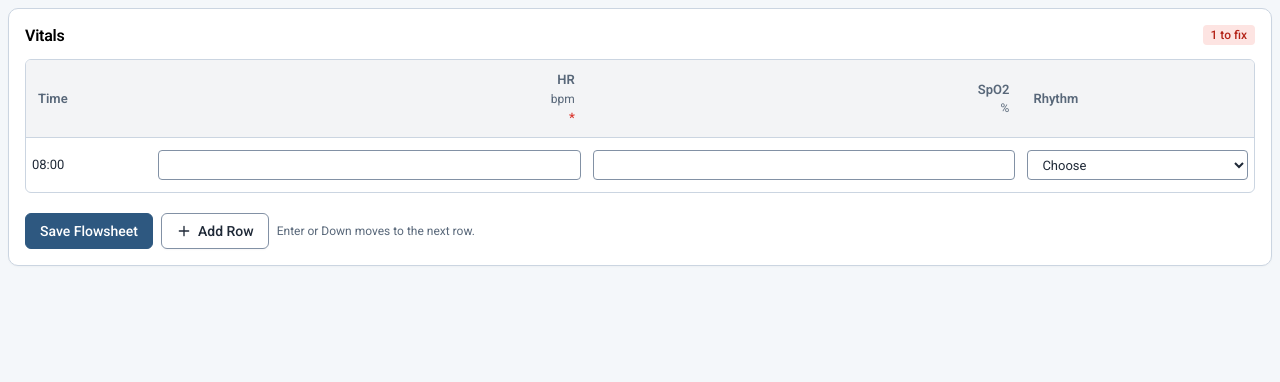
StructuredDataGrid › flags a missing required value only after a save attempt or for a new blank
The image size is (1280, 382).
Expected: the text "Required" is not shown
Expected: the text "1 to fix" is shown, [1202, 25, 1255, 45]
Step 1. Click the button "Save Flowsheet" → x=89, y=231, box [25, 213, 153, 249]
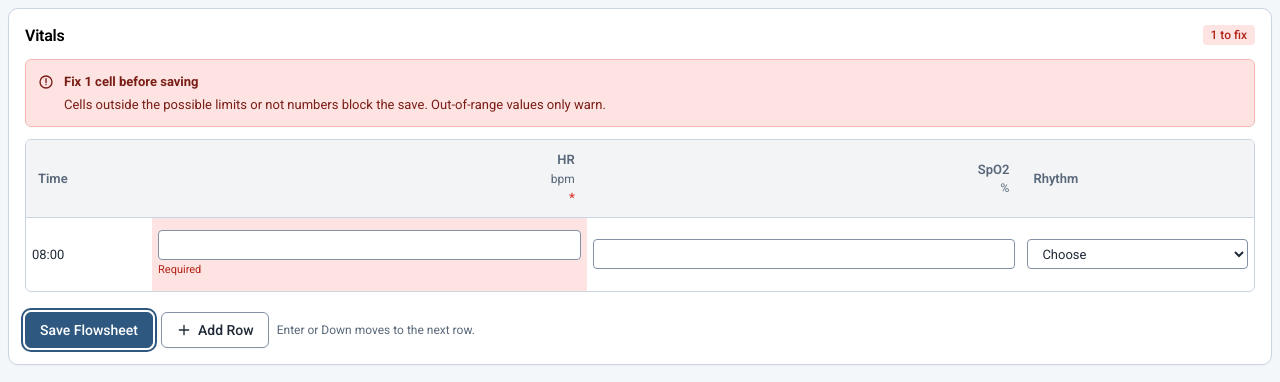
Expected: the text "Required" is shown, [158, 263, 201, 276]
